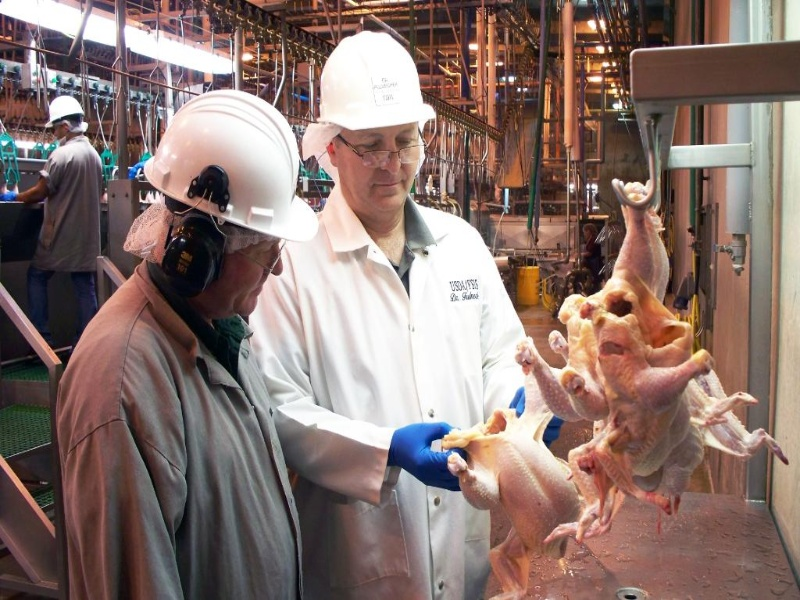Baret: (146, 89, 318, 243), (319, 29, 430, 129), (49, 96, 85, 120)
